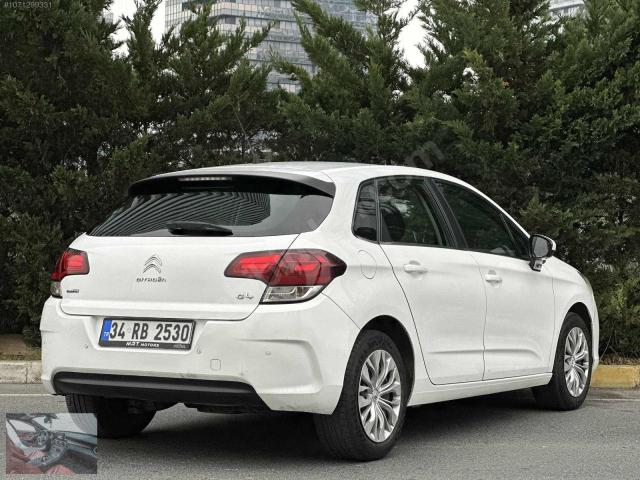plaka: (99, 318, 194, 350)
